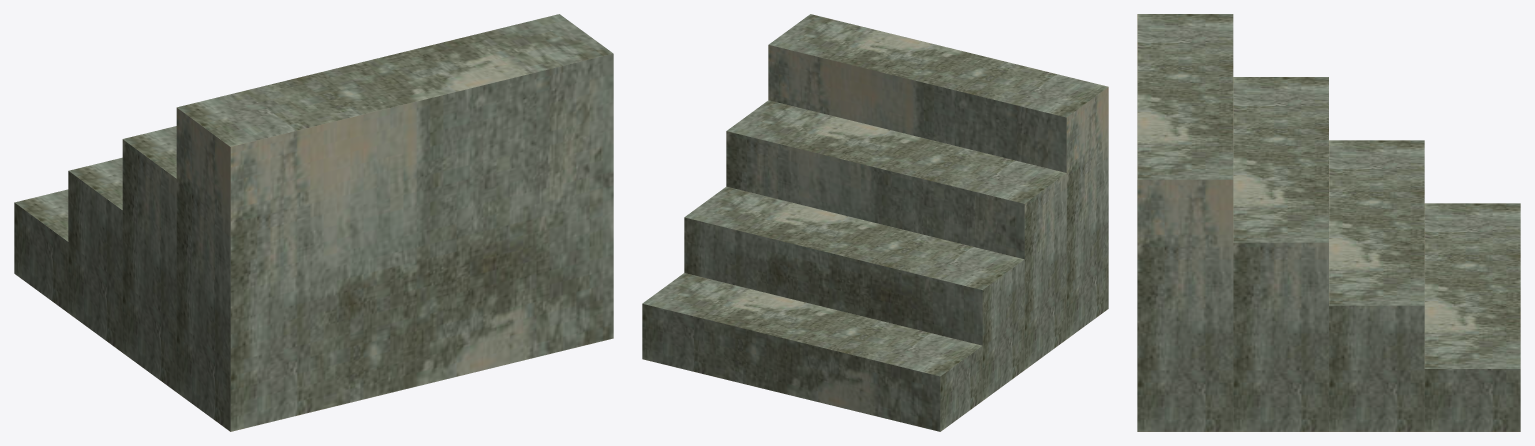
The model's file is stair_concrete.glb.
The picture shows the model from 3 angles, left to right: view 1: azimuth 30°, elevation 25°; view 2: azimuth 150°, elevation 25°; view 3: azimuth 270°, elevation 25°; orthographic projection. The views are drawn at different scales.
Visible parts, largest first — view 1: stair; view 2: stair; view 3: stair.
Part boxes in pixels (box(x1,y1,x2,y2)): stair: box(14, 14, 613, 431); stair: box(642, 14, 1108, 431); stair: box(1137, 14, 1520, 431).
Size of the model in its own units: 0.9 by 0.64 by 0.88.
1 material, 1 textured.
